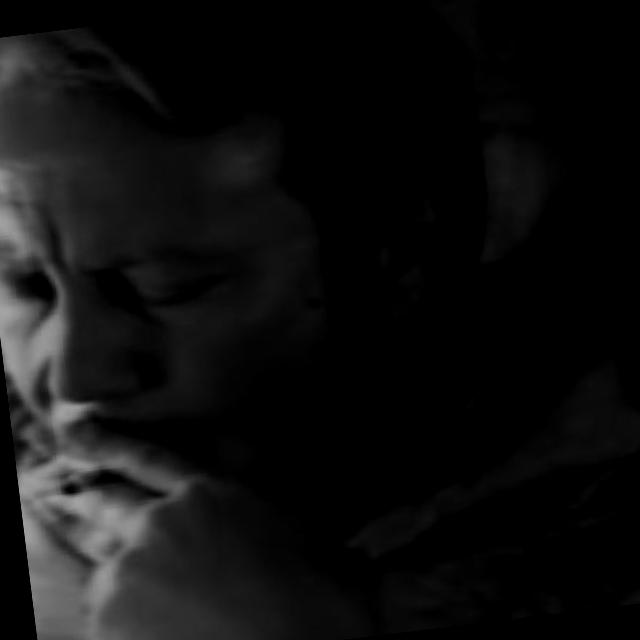smoke: (29, 404, 174, 522)
